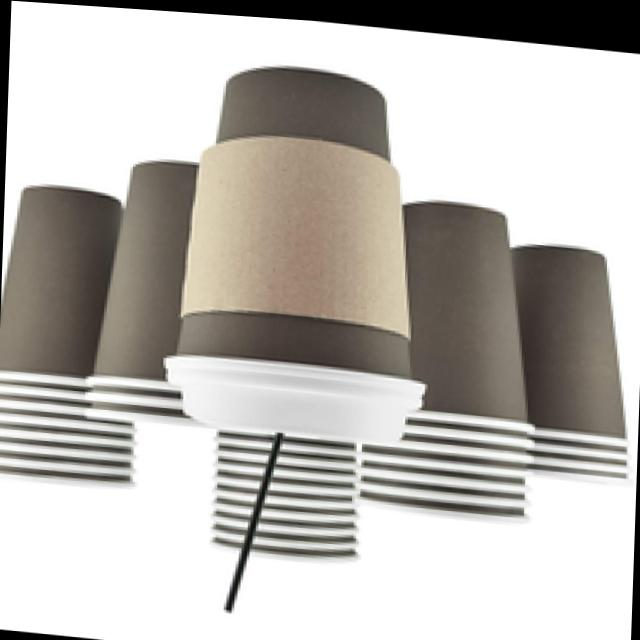paper_cups: (162, 52, 432, 451), (0, 182, 97, 489), (431, 189, 543, 427), (84, 153, 180, 422), (539, 233, 638, 438)
